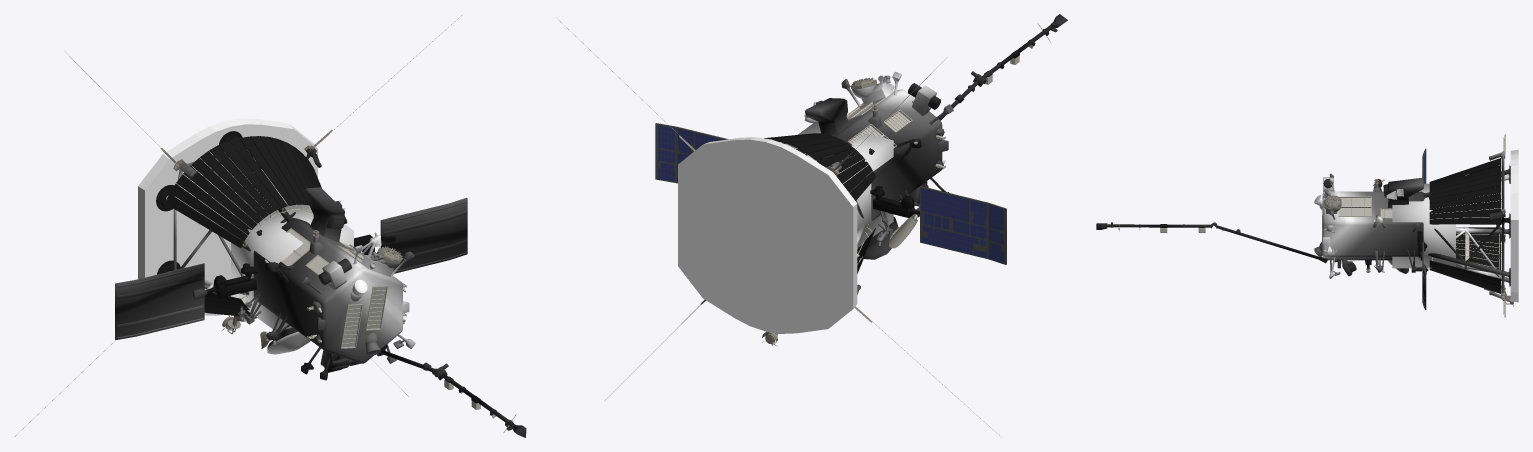
File: Parker Solar Probe.glb
3 views of the same model, side by side, from view 1: azimuth 30°, elevation 25°; view 2: azimuth 150°, elevation 25°; view 3: azimuth 270°, elevation 25° (orthographic). The views are drawn at different scales.
Parts seen in each view (by area): view 1: BUS, CoolingSystem, Instruments, solarWing_LeftBacking, solarWing_RightBacking, _root, vents, solarArray_arms, boom, heatShield_Mounting, HGA; view 2: Instruments, BUS, CoolingSystem, _root, boom, vents, solarArray_arms, electricAntennas; view 3: BUS, CoolingSystem, _root, Instruments, boom, vents.
Boxes of the visible parts, x1,y1,x2,y2 form: BUS: (165,143,415,380); CoolingSystem: (165,136,321,317); Instruments: (115,118,466,348); solarWing_LeftBacking: (115,263,204,339); solarWing_RightBacking: (381,198,467,273); _root: (231,203,353,331); vents: (280,228,387,348); solarArray_arms: (192,232,395,299); boom: (377,345,526,437); heatShield_Mounting: (156,131,242,274); HGA: (267,331,310,354); Instruments: (655,77,1006,346); BUS: (796,72,953,294); CoolingSystem: (764,133,875,273); _root: (785,121,893,247); boom: (939,14,1067,120); vents: (846,97,912,147); solarArray_arms: (870,186,919,217); electricAntennas: (556,17,1001,437); BUS: (1314,151,1509,300); CoolingSystem: (1429,158,1501,293); _root: (1392,183,1455,268); Instruments: (1323,134,1518,317); boom: (1096,222,1327,263); vents: (1322,196,1392,242).
Bounding box in the file's own units: 5.75 × 5.26 × 6.61.
Materials: 6 (2 with a texture image).
